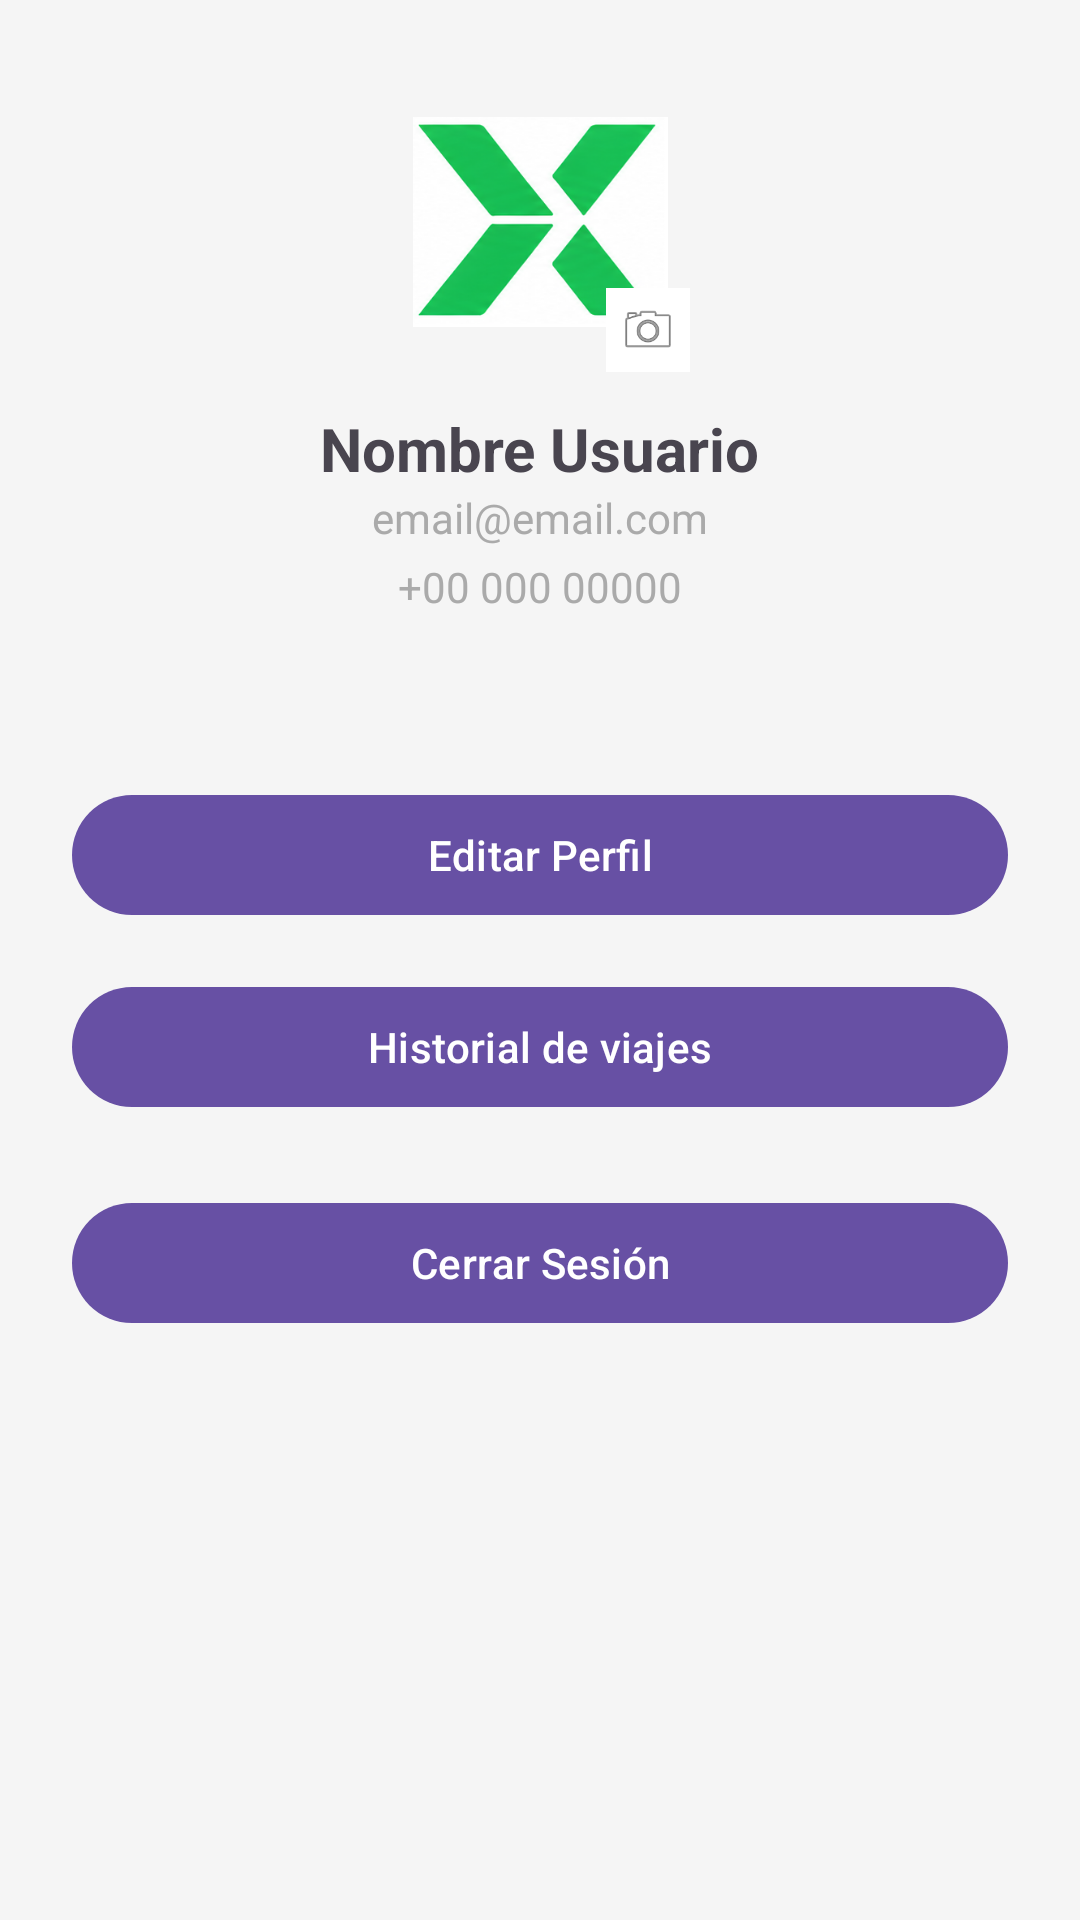

Screen size 1080w x 1920h. Icon name, then its center in pixels as point (x, y):
Cámara: point (648, 330)
